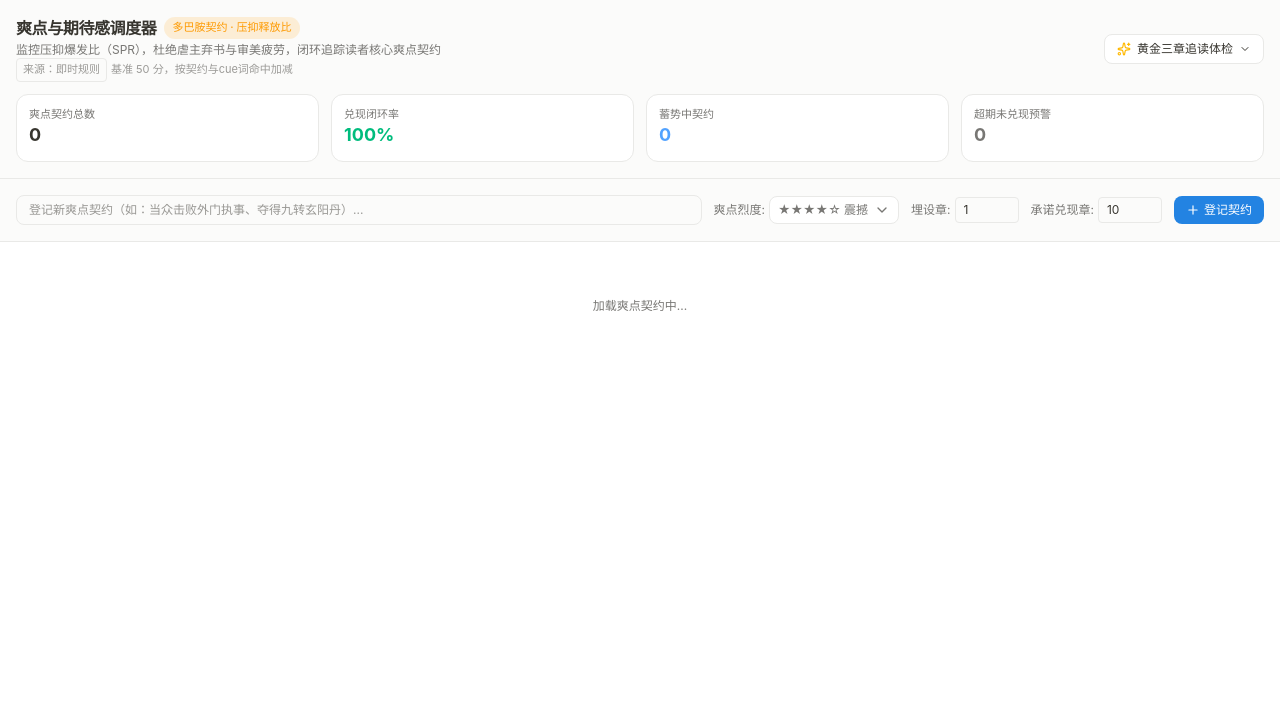
Scenario: ExpectationMasterView — 爽点与期待感调度器主视口 › runs golden three audit when expanded
Click the button "黄金三章追读体检" at point(1184, 49), box 1104,34 -> 1264,64
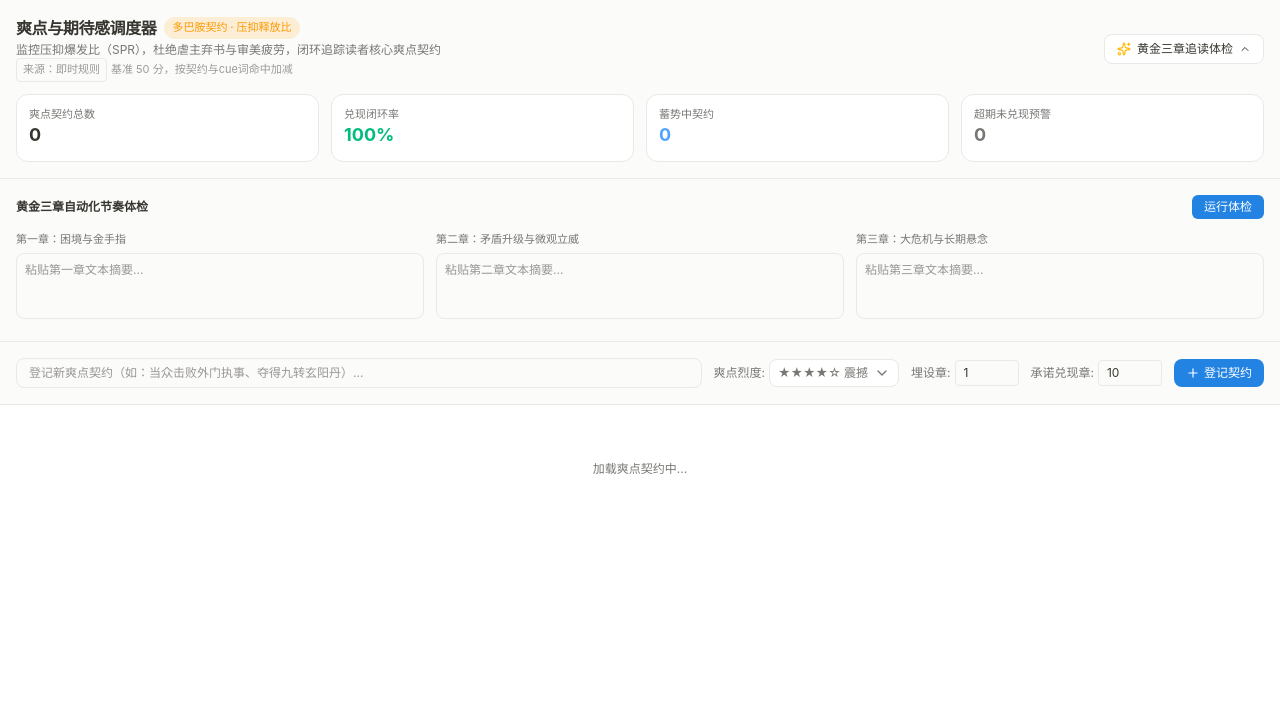
Expected: the text "黄金三章自动化节奏体检" is shown, 16,199 -> 148,215
Click the button "运行体检" at point(1228, 207), box 1192,195 -> 1264,219
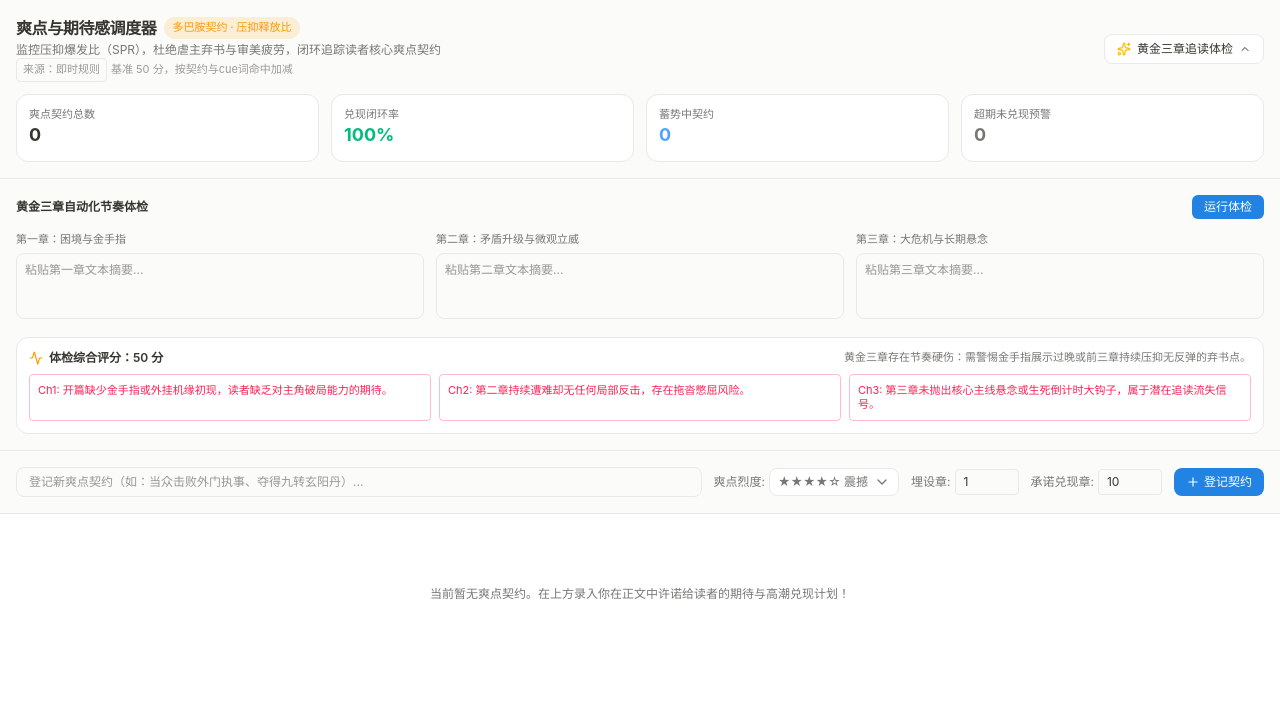
Expected: the text "体检综合评分：50 分" is shown, 29,350 -> 163,366
